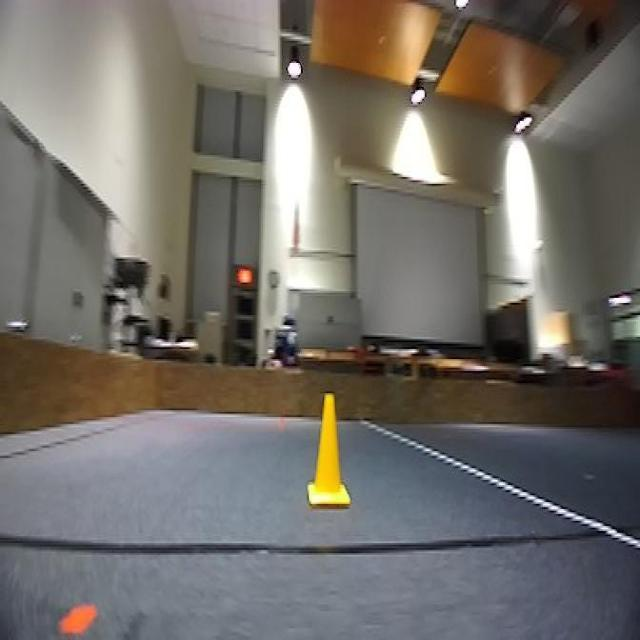frc_cone: (308, 395, 355, 507)
